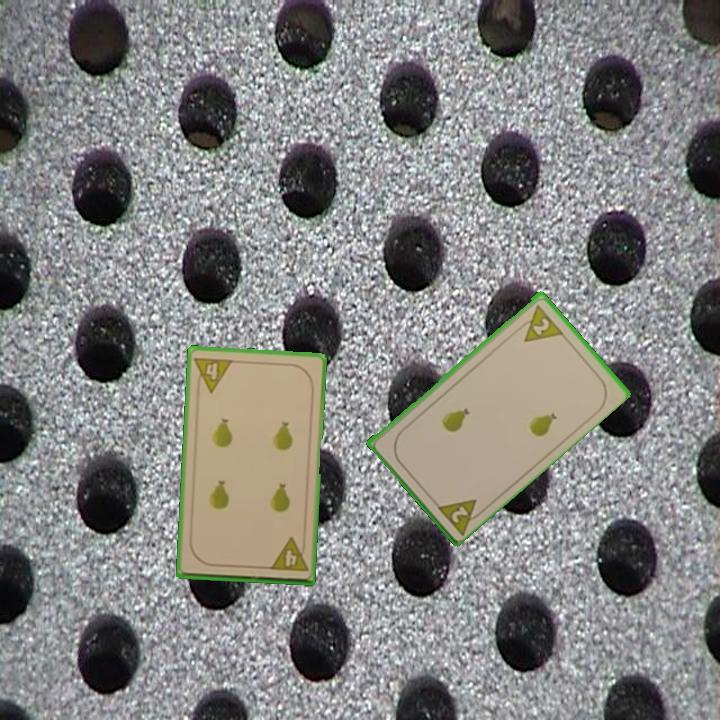2p: (513, 301, 565, 345), (447, 502, 471, 526)
4p: (191, 353, 236, 395), (266, 534, 311, 574)
